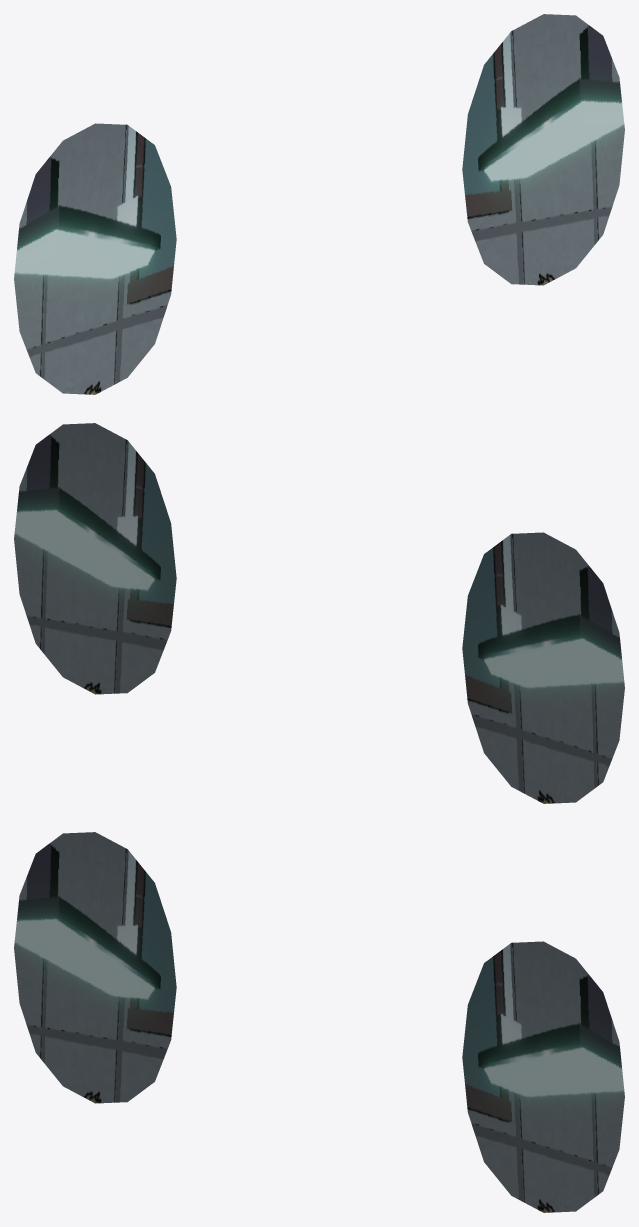
File: Eyes.fbx
3 renders of one model, top to bottom at view 1: azimuth 30°, elevation 25°; view 2: azimuth 150°, elevation 25°; view 3: azimuth 330°, elevation 25°, orthographic.
Parts seen in each view (by area): view 1: Eyes; view 2: Eyes; view 3: Eyes.
Part boxes in pixels (<box>): Eyes: <box>14,14,624,394</box>; Eyes: <box>14,423,624,803</box>; Eyes: <box>14,832,624,1212</box>.
Size of the model in its own units: 21.26 by 9.03 by 1.37e-06.
